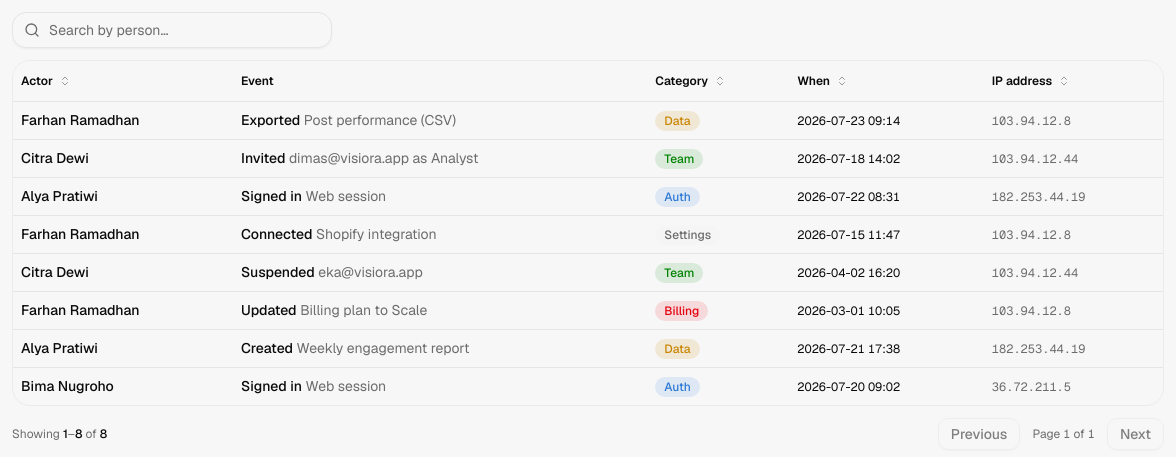
Scenario: ActivityTable › filters by actor
Type "Citra" into the field.
click(172, 30); type("Citra")  # box [12, 12, 332, 48]
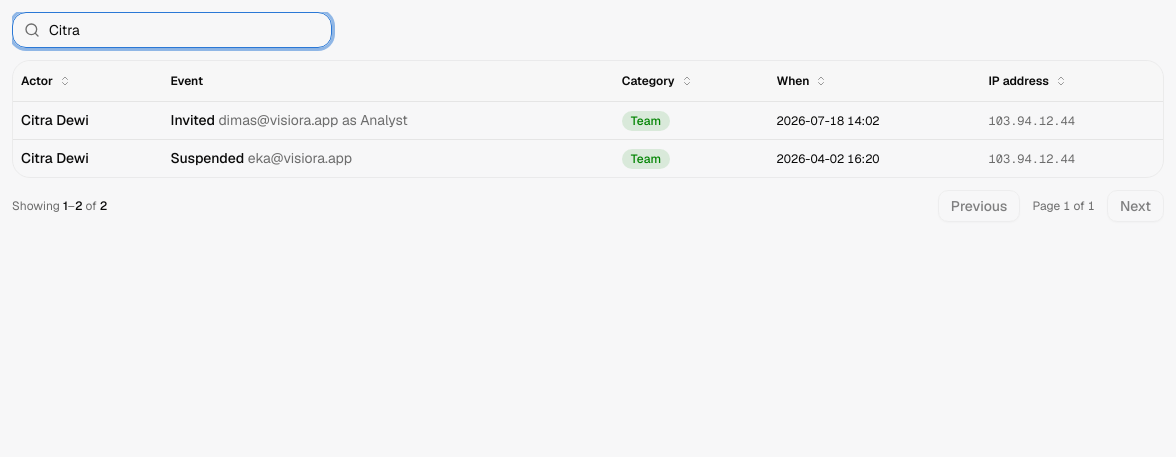
expect the text "Signed in" is gone: met
